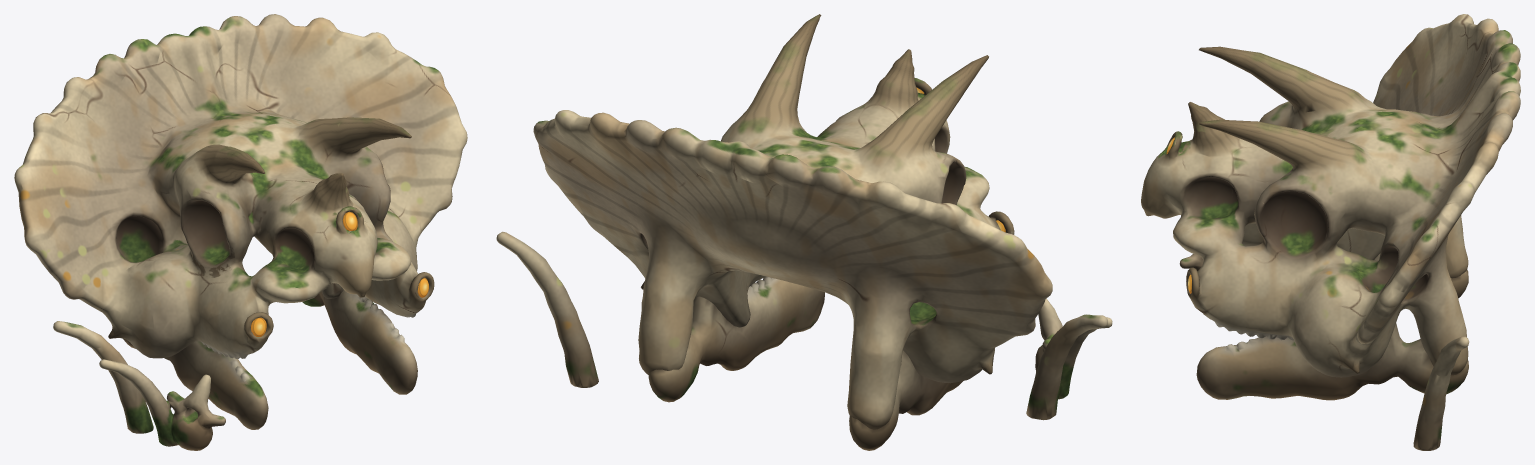
File: grand_crane.glb
The picture shows the model from 3 angles, left to right: view 1: azimuth 30°, elevation 25°; view 2: azimuth 150°, elevation 25°; view 3: azimuth 270°, elevation 25°; orthographic projection. The views are drawn at different scales.
Parts seen in each view (by area): view 1: Crane, Machoire, OsAutour; view 2: Crane, Machoire, OsAutour; view 3: Crane, Machoire, OsAutour.
Boxes of the visible parts, bbox=[...] form: Crane: bbox=[14, 14, 467, 358]; Machoire: bbox=[123, 290, 417, 429]; OsAutour: bbox=[53, 321, 225, 450]; Crane: bbox=[533, 14, 1052, 429]; Machoire: bbox=[648, 276, 962, 450]; OsAutour: bbox=[496, 231, 1112, 420]; Crane: bbox=[1141, 14, 1520, 377]; Machoire: bbox=[1196, 253, 1468, 400]; OsAutour: bbox=[1179, 253, 1469, 450].
Bounding box in the file's own units: 16.04 × 9.37 × 11.1.
2 materials, 2 textured.
